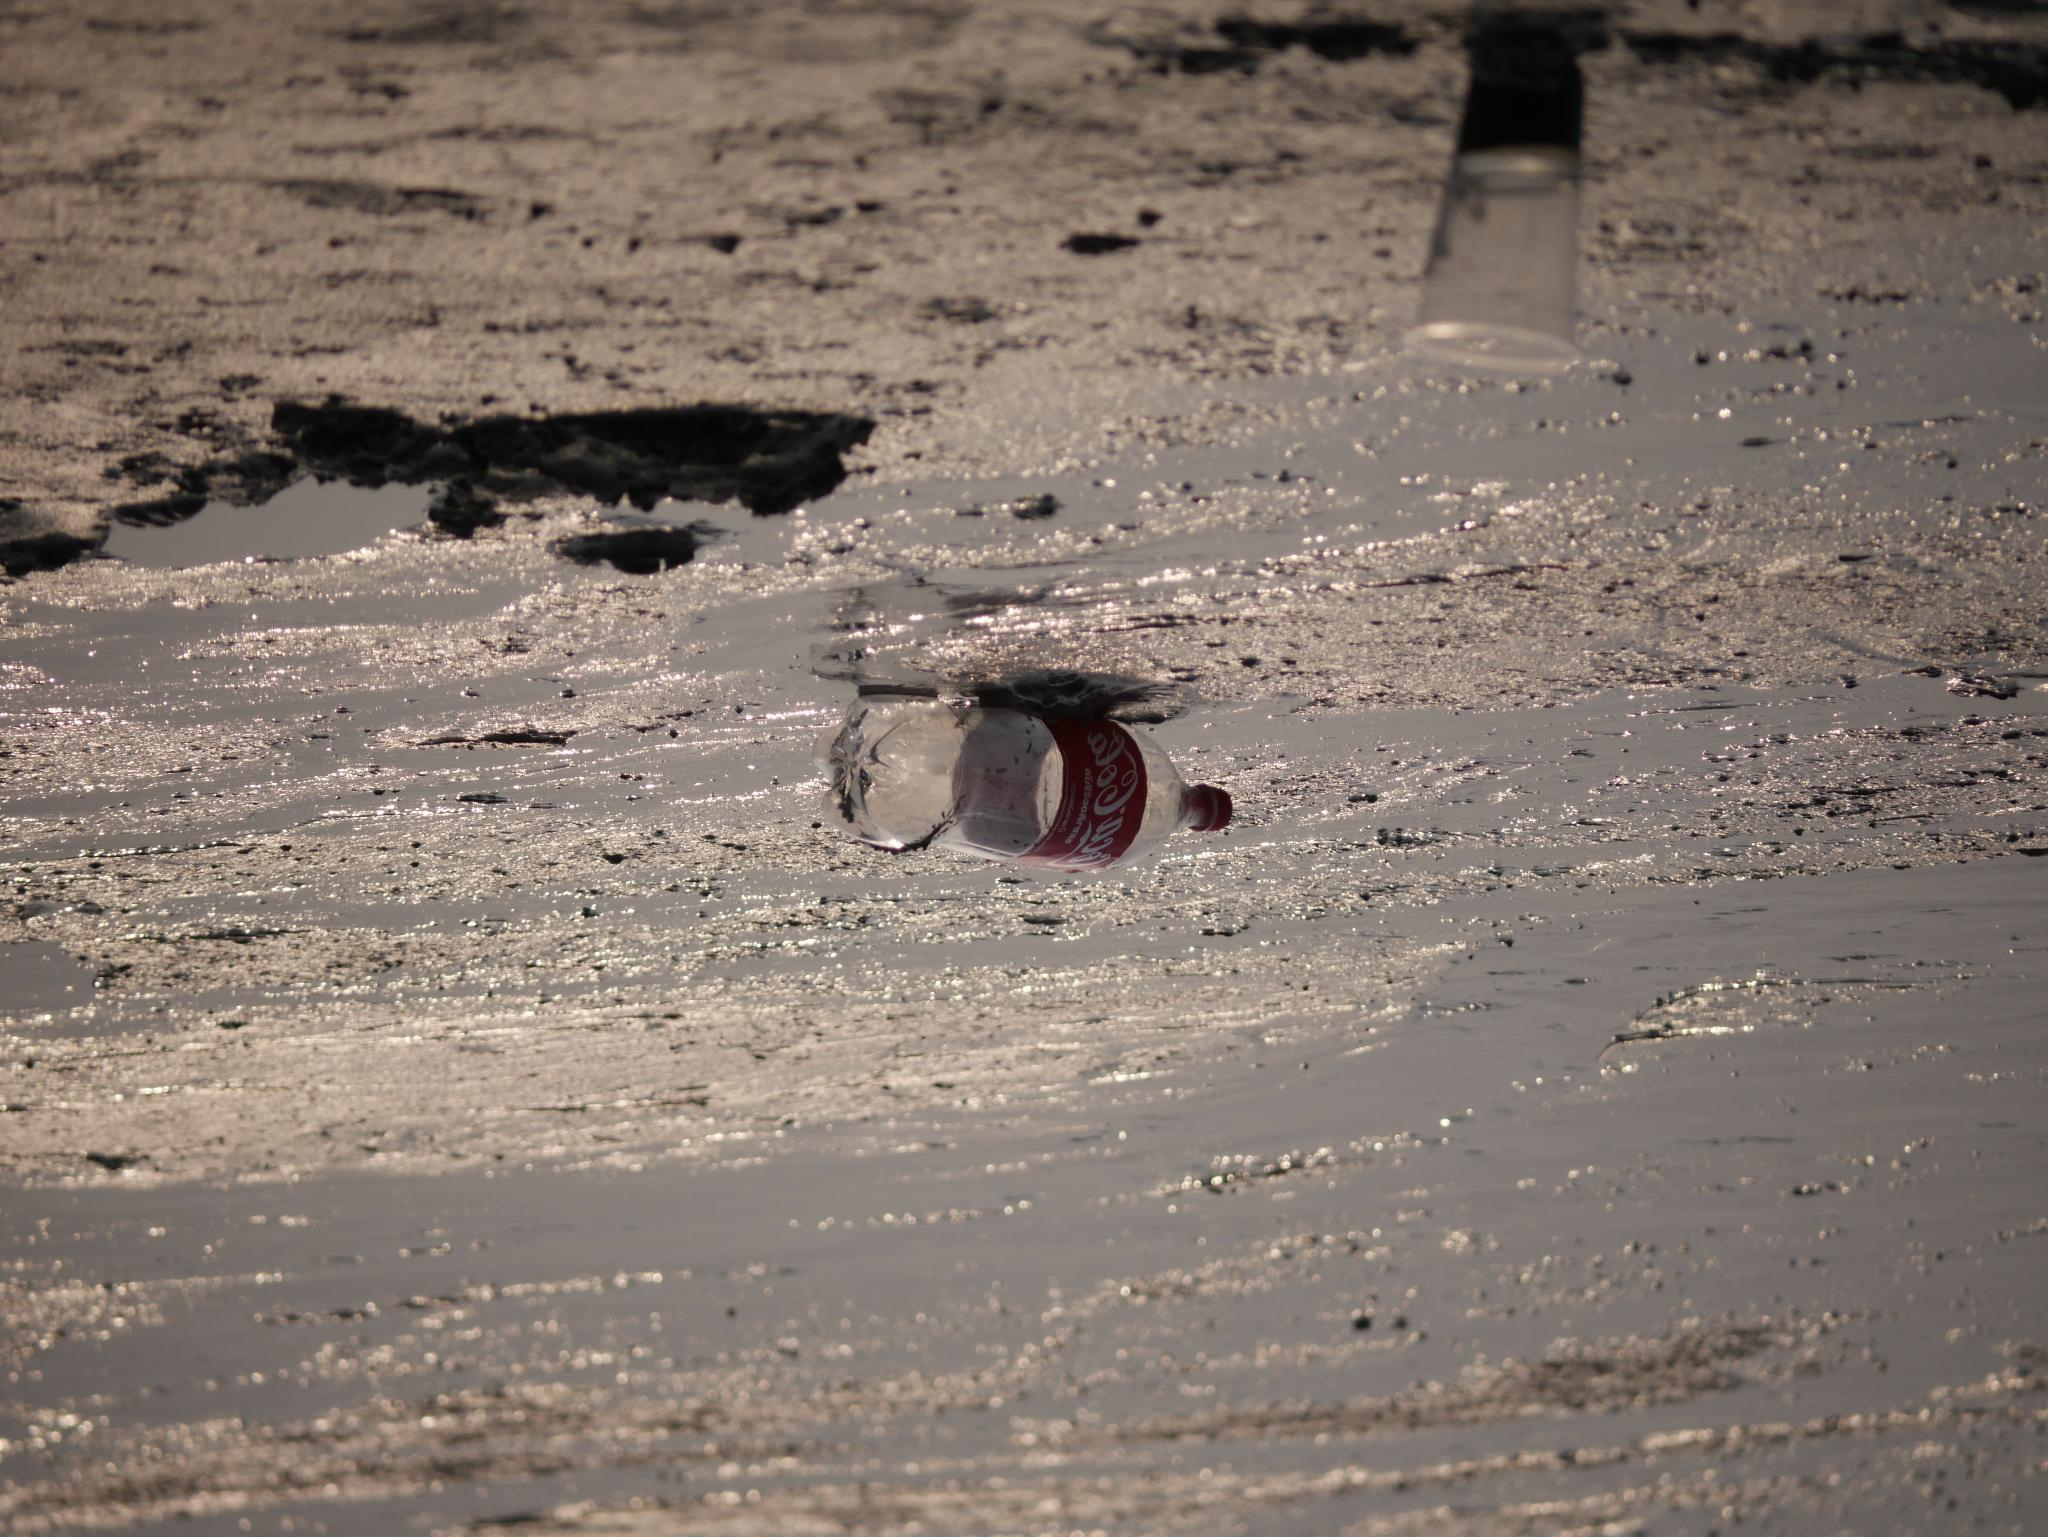Plastic: (791, 668, 1291, 912)
